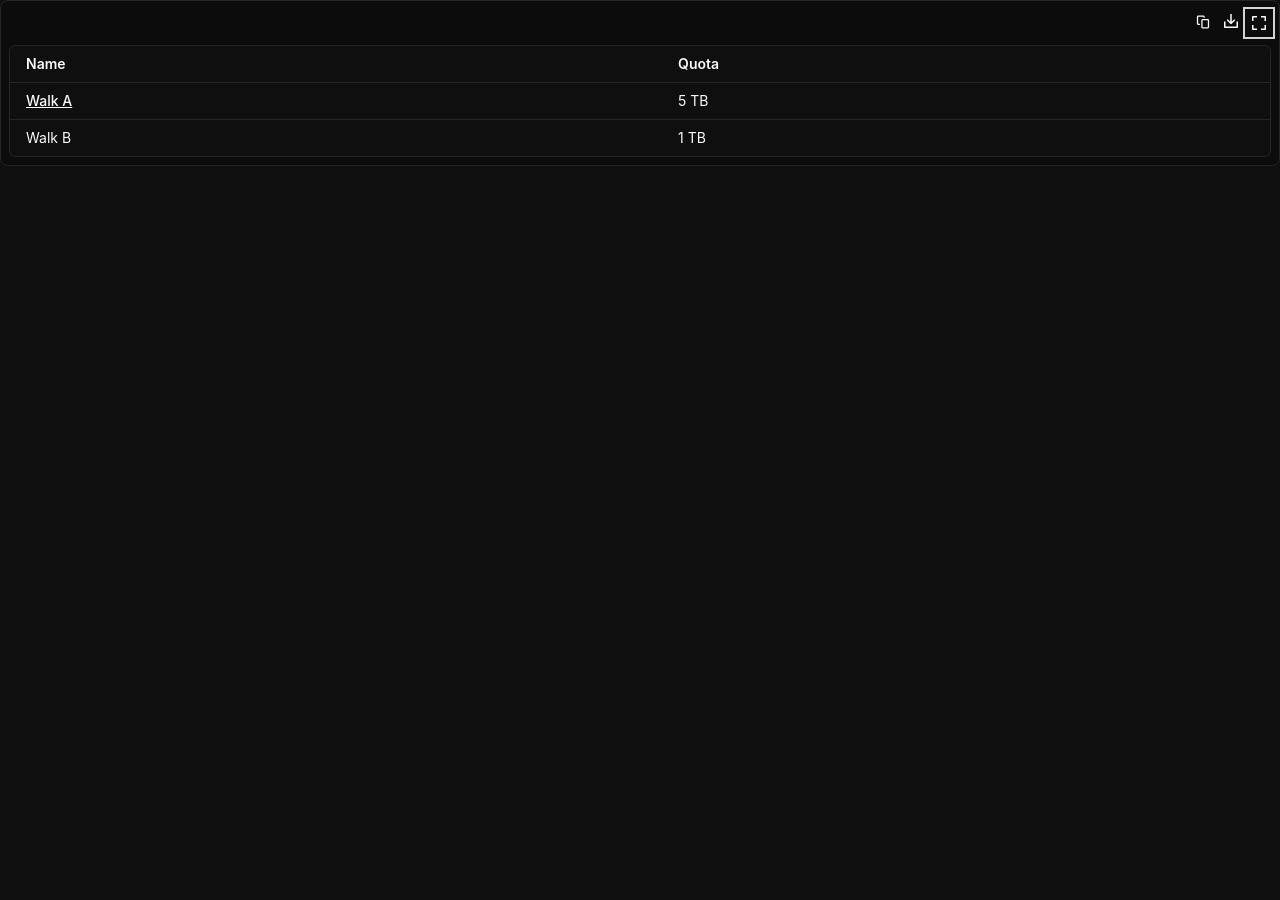
Test: moves focus into the full-screen table when it opens
The image size is (1280, 900).
Expected: the table is shown, [10, 46, 1270, 156]
What coordinates should you click on to do the following:
click the button named "View fullscreen"
I would click on:
 (1259, 23)
Its box is [1247, 11, 1271, 35].
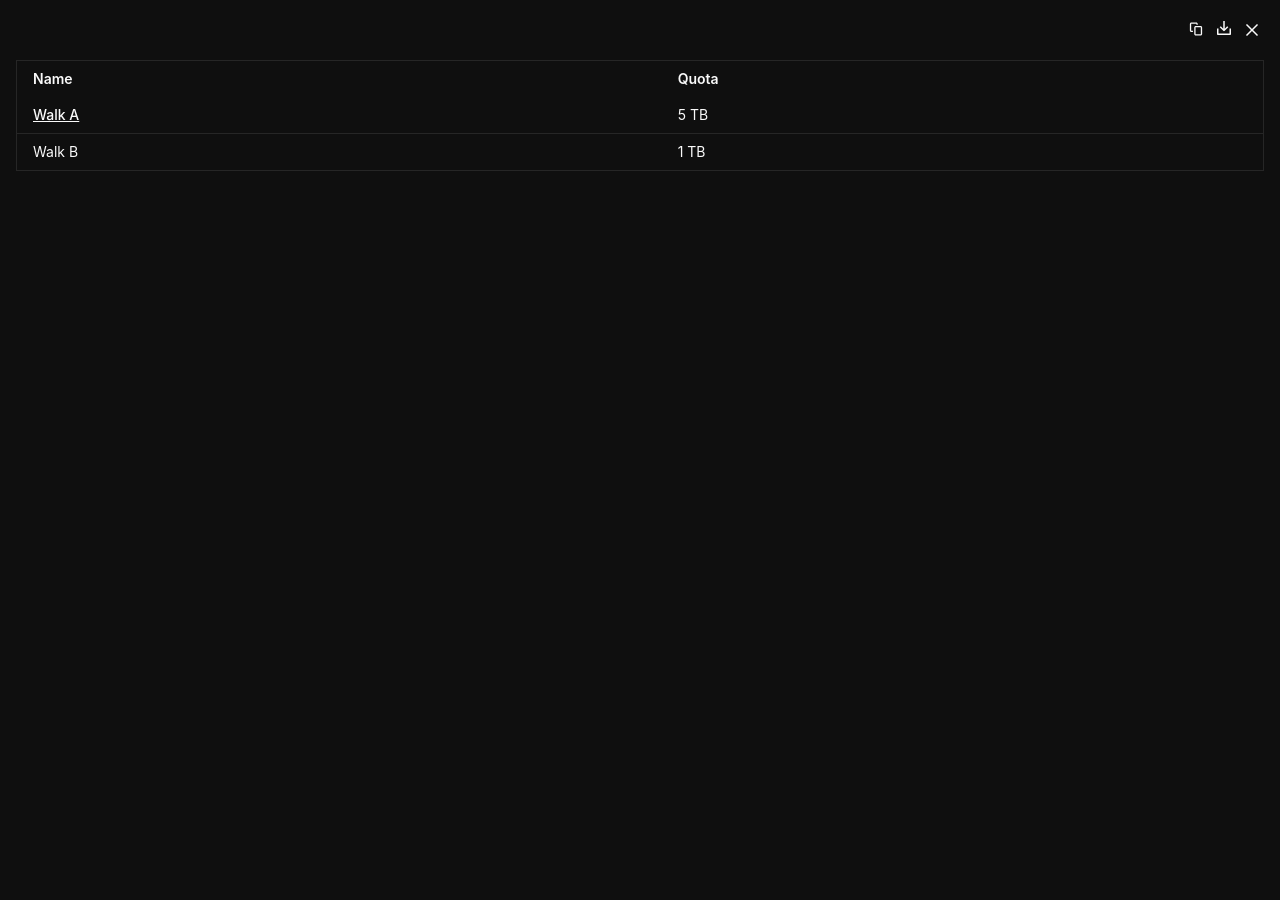
Expected: the dialog is shown
